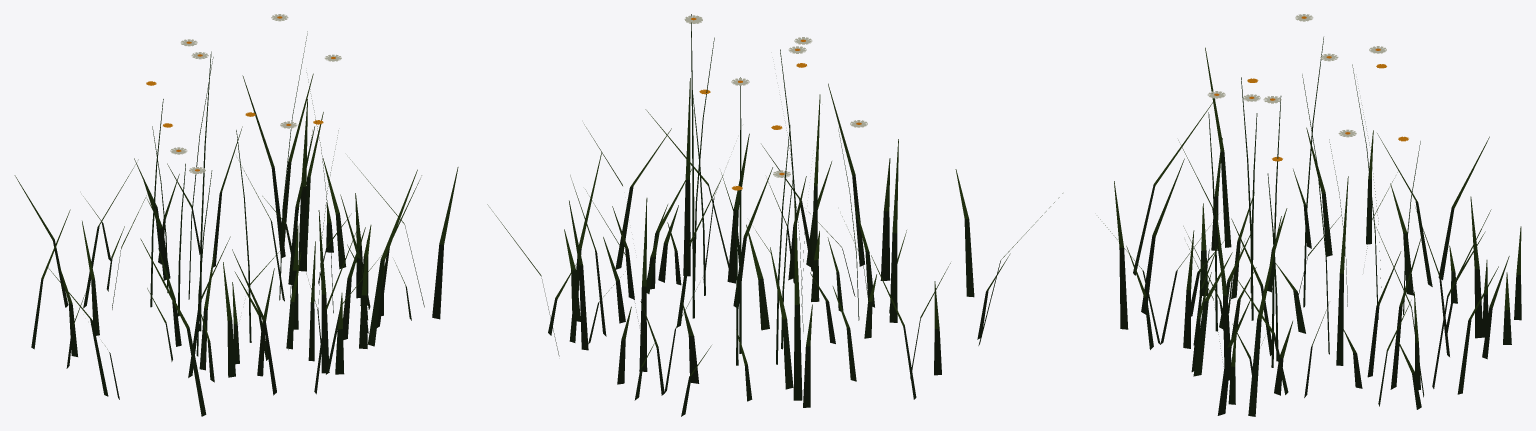
Rendered from SM_Meadow_Flowers.fbx.
3 renders of one model, left to right at view 1: azimuth 30°, elevation 25°; view 2: azimuth 150°, elevation 25°; view 3: azimuth 270°, elevation 25°, orthographic. The views are drawn at different scales.
Parts seen in each view (by area): view 1: SM_Meadow_Flowers; view 2: SM_Meadow_Flowers; view 3: SM_Meadow_Flowers.
Boxes of the visible parts, left/top/right/bottom form: SM_Meadow_Flowers: left=14, top=14, right=458, bottom=416; SM_Meadow_Flowers: left=487, top=14, right=1062, bottom=416; SM_Meadow_Flowers: left=1098, top=14, right=1521, bottom=416.
Bounding box in the file's own units: 70.29 × 57.02 × 44.7.
